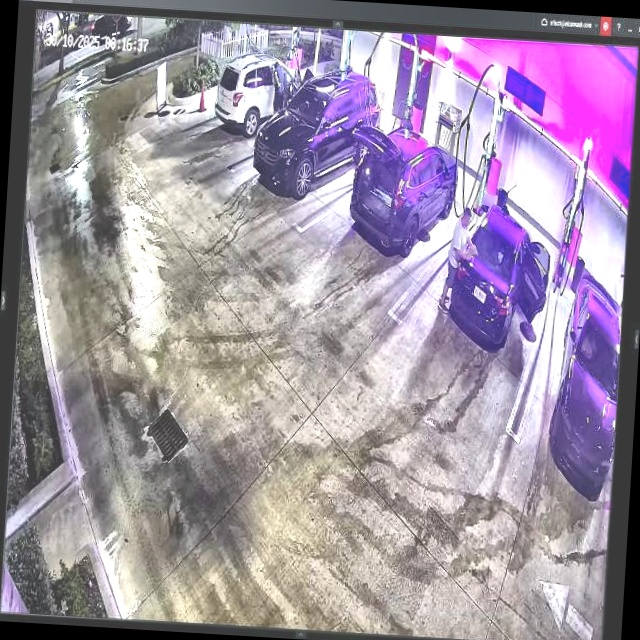Car: (252, 67, 381, 199), (449, 203, 552, 351), (346, 124, 461, 256)
